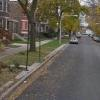Car: (64, 31, 83, 57)
